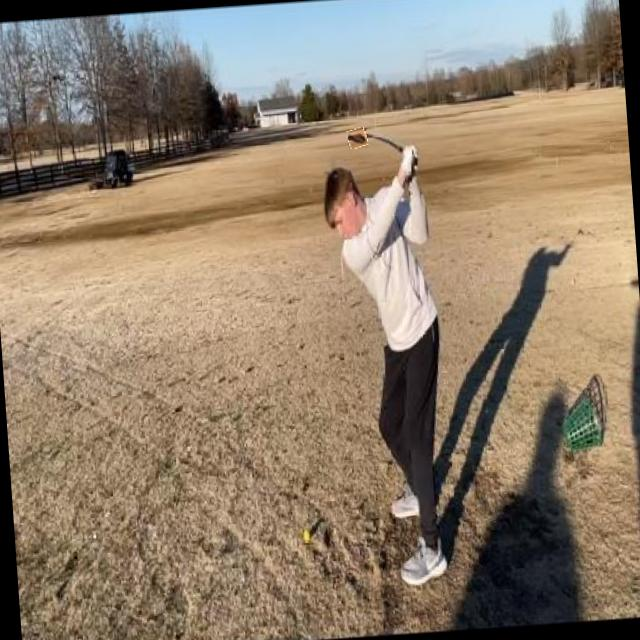club head: (347, 128, 368, 148)
